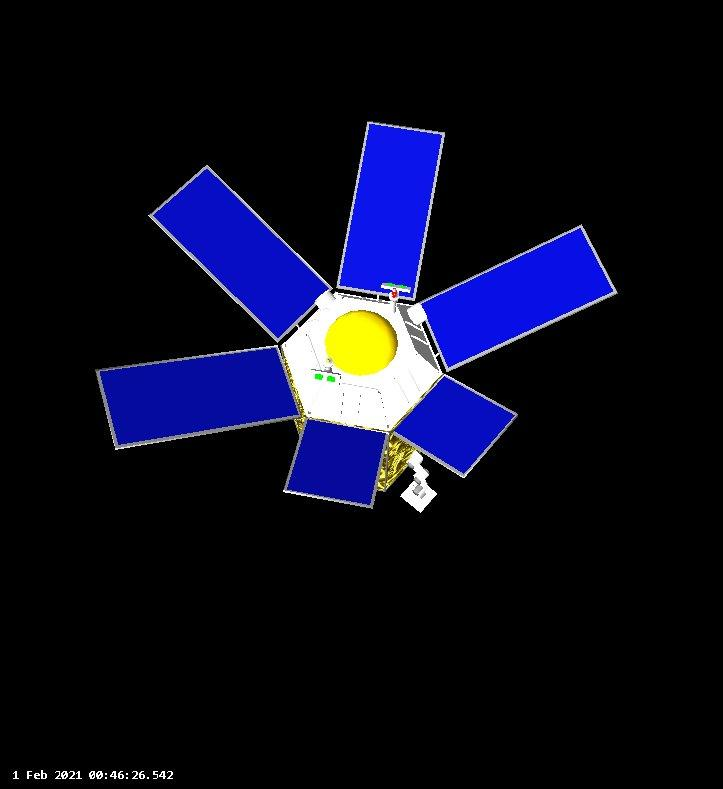antenna: (398, 475, 440, 516), (308, 354, 345, 388), (377, 280, 413, 308)
body: (275, 290, 447, 495)
solar: (144, 159, 336, 345), (416, 220, 620, 373), (90, 343, 300, 452), (333, 118, 447, 303), (386, 373, 519, 480), (281, 415, 391, 509)
